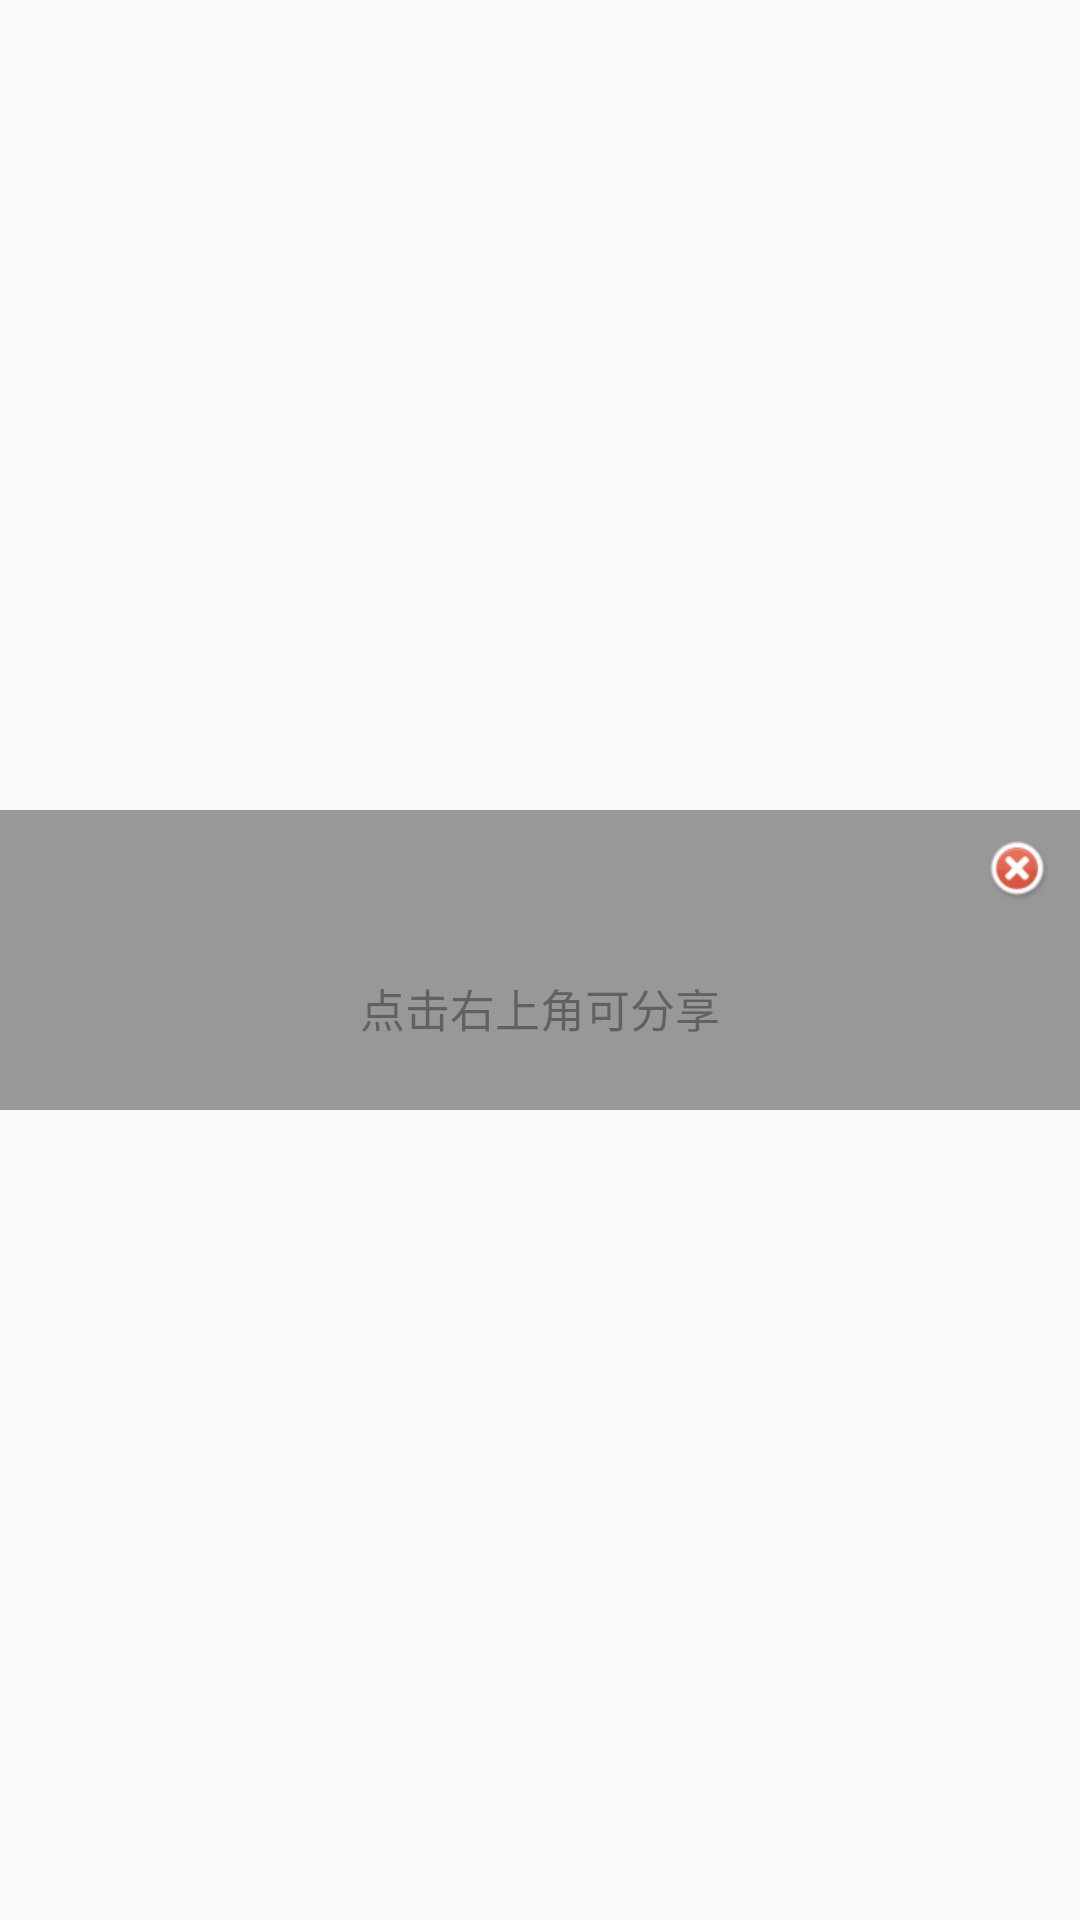

Where to tap for icons on this 1080 × 1920 app screen, as (x=x, y=y):
close sharemicroblog dialog: (x=1017, y=868)
